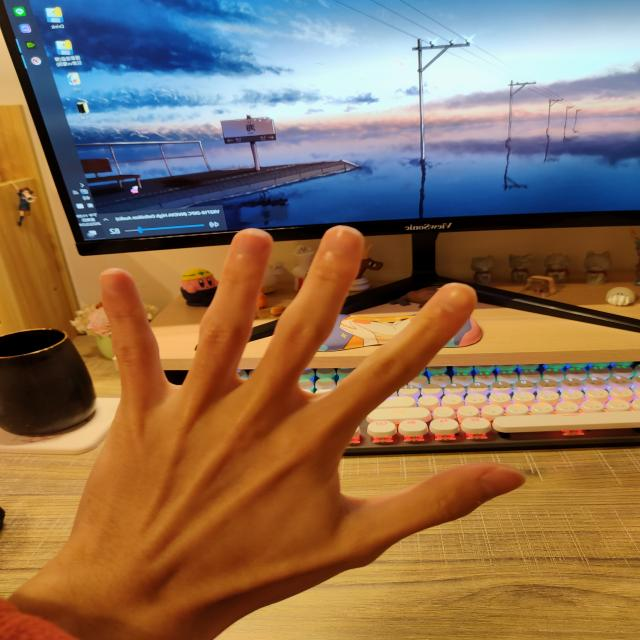no_glove: (22, 211, 538, 640)
